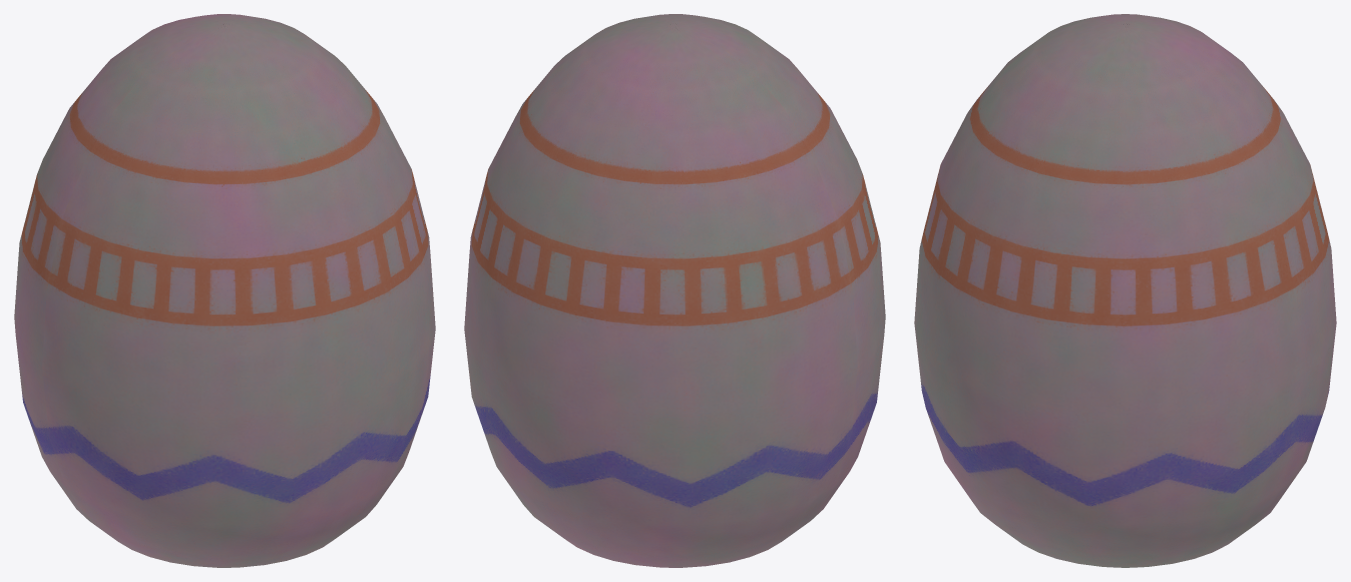
The model's file is EasterEgg.glb.
3 renders of one model, left to right at view 1: azimuth 30°, elevation 25°; view 2: azimuth 150°, elevation 25°; view 3: azimuth 270°, elevation 25°, orthographic.
Visible parts, largest first — view 1: mesh; view 2: mesh; view 3: mesh.
Part boxes in pixels (x1,y1,x2,y2): mesh: (14, 14, 435, 567); mesh: (464, 14, 885, 567); mesh: (914, 14, 1336, 567).
Bounding box in the file's own units: 1.9 × 2.56 × 1.9.
Materials: 1 (1 with a texture image).
